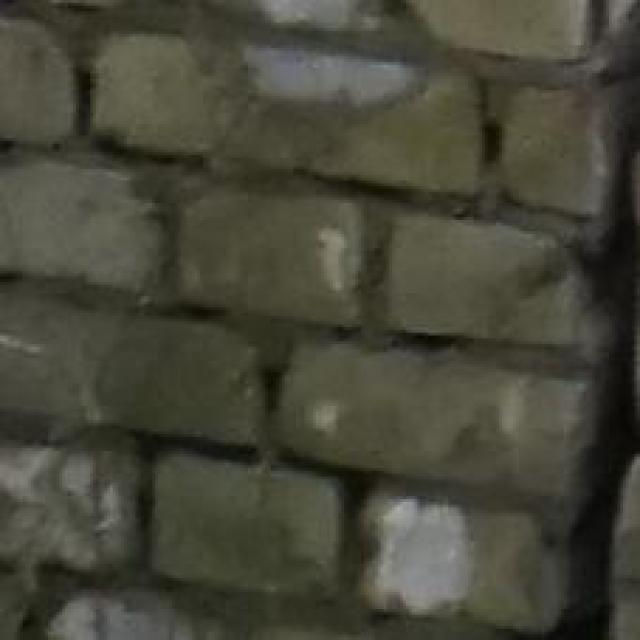Crack: (0, 41, 431, 640)
